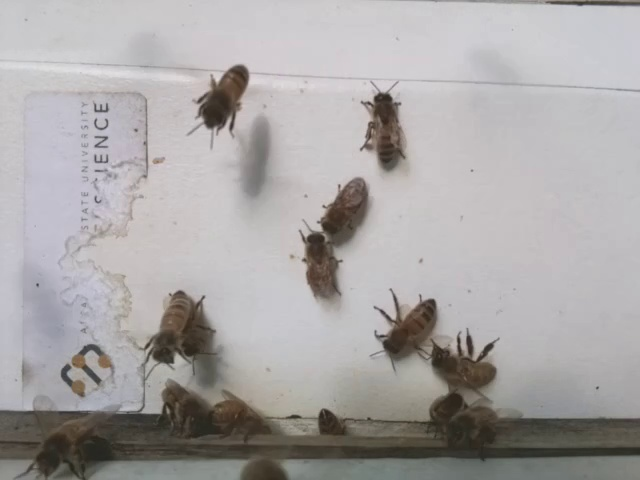bee: (136, 285, 230, 377), (183, 52, 259, 152), (15, 414, 125, 478), (366, 279, 442, 365), (426, 324, 509, 398), (353, 76, 415, 172), (307, 168, 379, 241), (290, 214, 347, 300), (441, 401, 524, 460), (202, 383, 269, 444), (157, 377, 212, 440), (424, 389, 464, 436)
